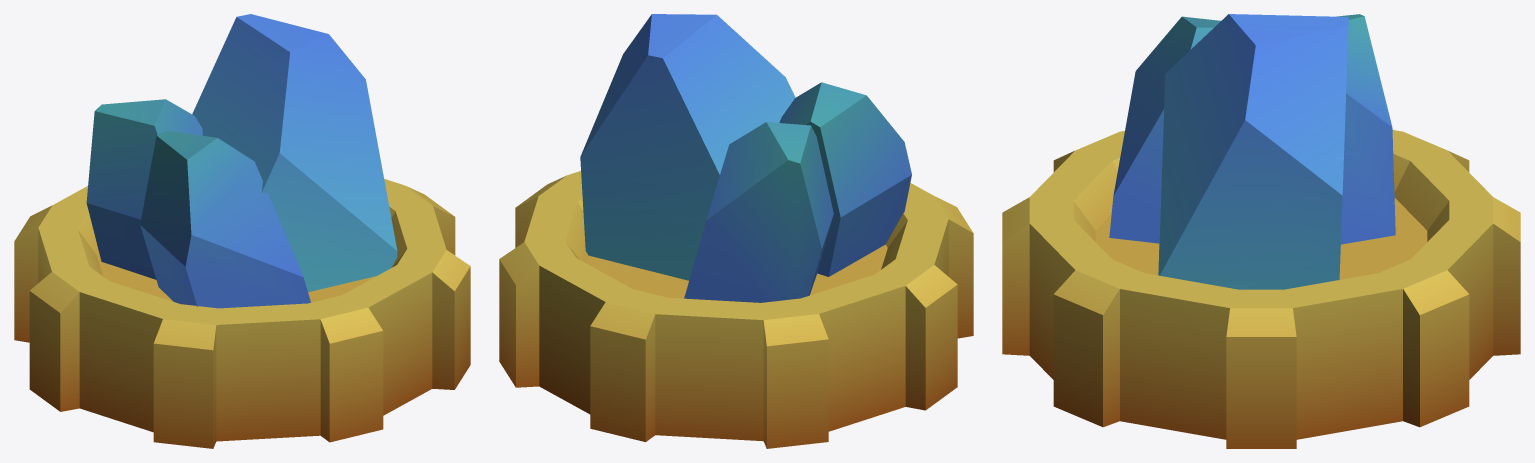
Rendered from синий слот .fbx.
3 views of the same model, side by side, from view 1: azimuth 30°, elevation 25°; view 2: azimuth 150°, elevation 25°; view 3: azimuth 270°, elevation 25° (orthographic). The views are drawn at different scales.
Visible parts, largest first — view 1: Cylinder.008, Cube.019; view 2: Cylinder.008, Cube.019; view 3: Cylinder.008, Cube.019.
Part boxes in pixels (x1,y1,x2,y2): Cylinder.008: [14, 179, 470, 448]; Cube.019: [86, 14, 397, 308]; Cylinder.008: [499, 171, 973, 448]; Cube.019: [580, 14, 911, 302]; Cylinder.008: [1002, 130, 1520, 448]; Cube.019: [1109, 14, 1395, 289].
Size of the model in its own units: 212 by 156 by 212.
